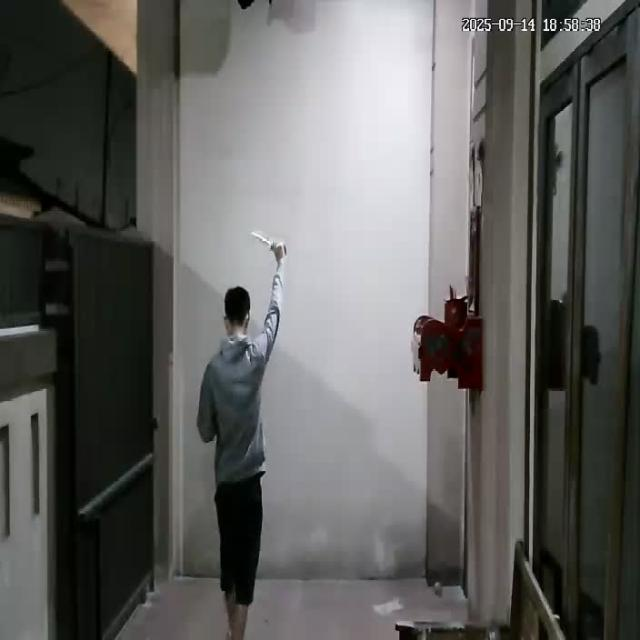senjata_tajam: (246, 227, 276, 252)
